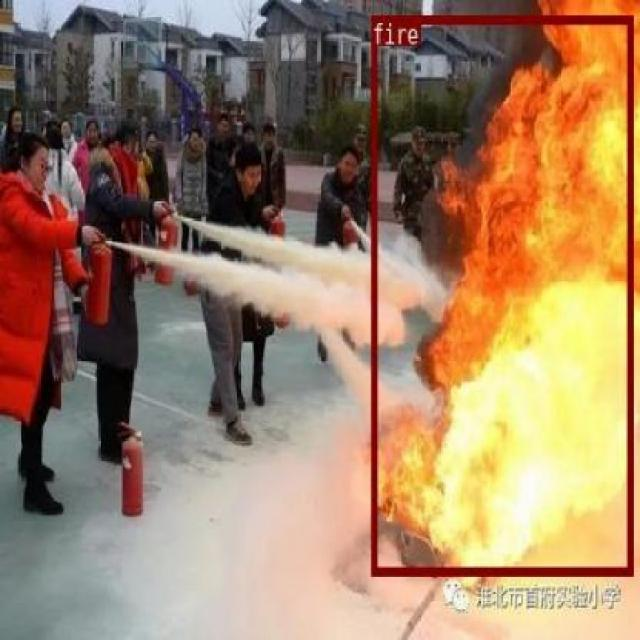Fire: (370, 14, 632, 574)
